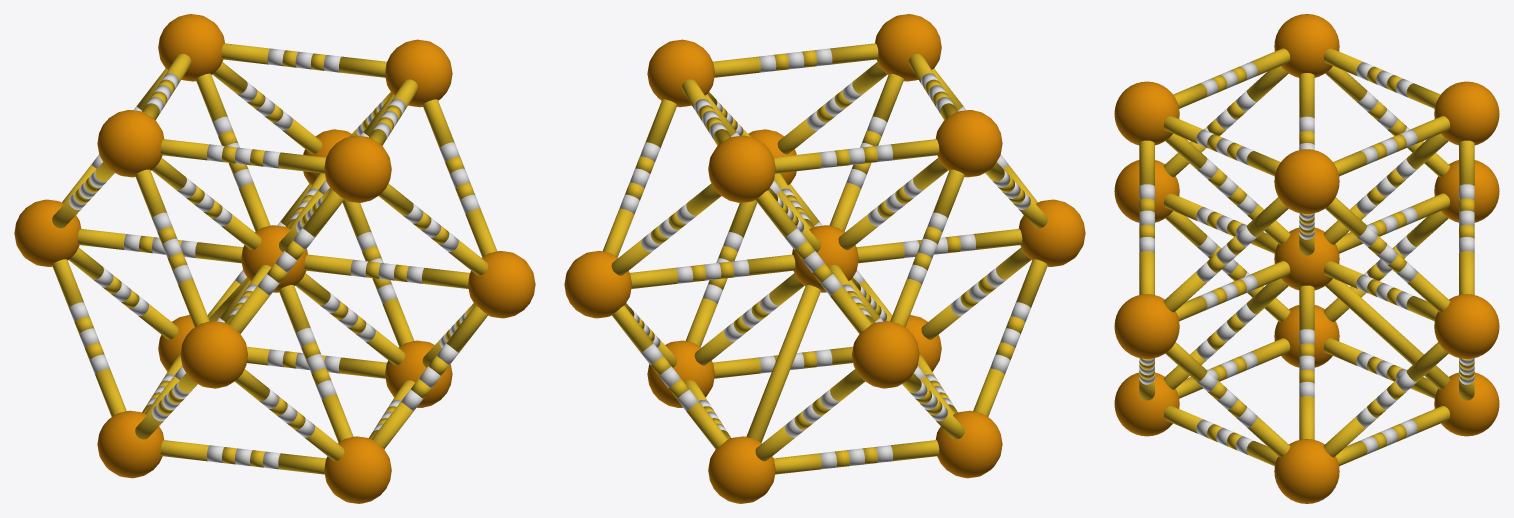
Rendered from 3D_Gold.fbx.
The picture shows the model from 3 angles, left to right: view 1: azimuth 30°, elevation 25°; view 2: azimuth 150°, elevation 25°; view 3: azimuth 270°, elevation 25°; orthographic projection. The views are drawn at different scales.
Visible parts, largest first — view 1: Shape_IndexedFaceSet; view 2: Shape_IndexedFaceSet; view 3: Shape_IndexedFaceSet.
Part boxes in pixels (<box>): Shape_IndexedFaceSet: <box>14,14,535,503</box>; Shape_IndexedFaceSet: <box>564,14,1085,503</box>; Shape_IndexedFaceSet: <box>1114,14,1499,503</box>.
Bounding box in the file's own units: 4900 × 4887 × 4900.
